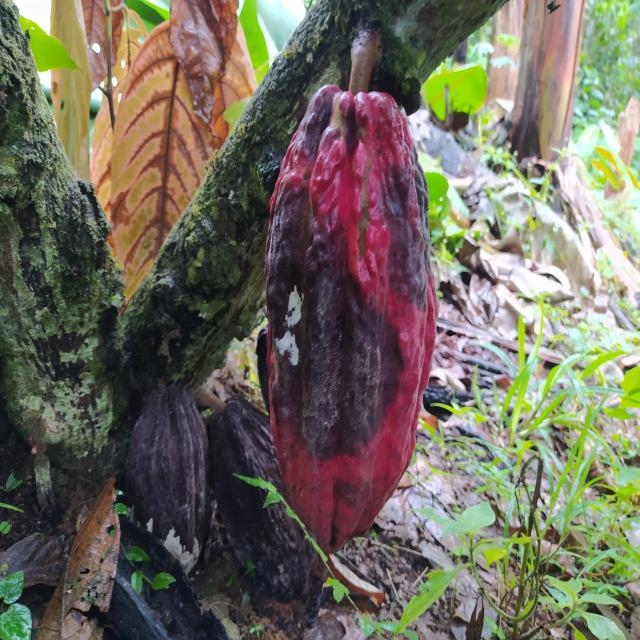Monilia: (267, 91, 443, 546), (125, 386, 207, 580)
